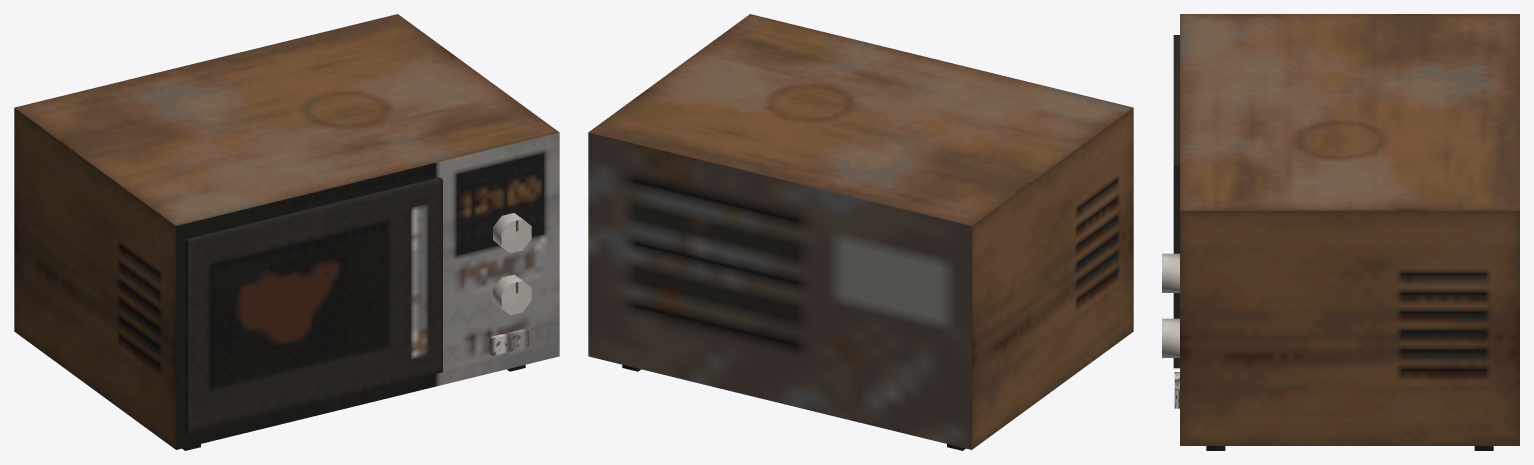
Rendered from microwave_old.obj.
The picture shows the model from 3 angles, left to right: view 1: azimuth 30°, elevation 25°; view 2: azimuth 150°, elevation 25°; view 3: azimuth 270°, elevation 25°; orthographic projection. The views are drawn at different scales.
Visible parts, largest first — view 1: microwave_old; view 2: microwave_old; view 3: microwave_old.
Boxes of the visible parts, box(x1,y1,x2,y2) form: microwave_old: box(14, 14, 559, 450); microwave_old: box(588, 14, 1133, 450); microwave_old: box(1162, 14, 1519, 450).
Size of the model in its own units: 0.52 by 0.31 by 0.4.
1 material, 1 textured.
